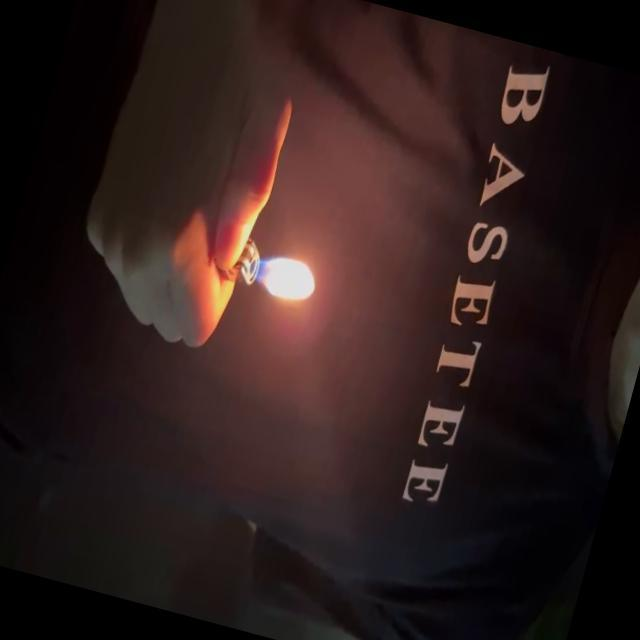Fire: (240, 246, 324, 318)
